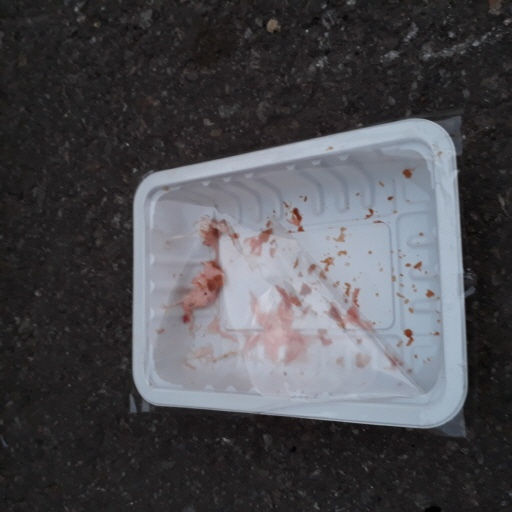Plastic_4: (130, 113, 469, 435)
